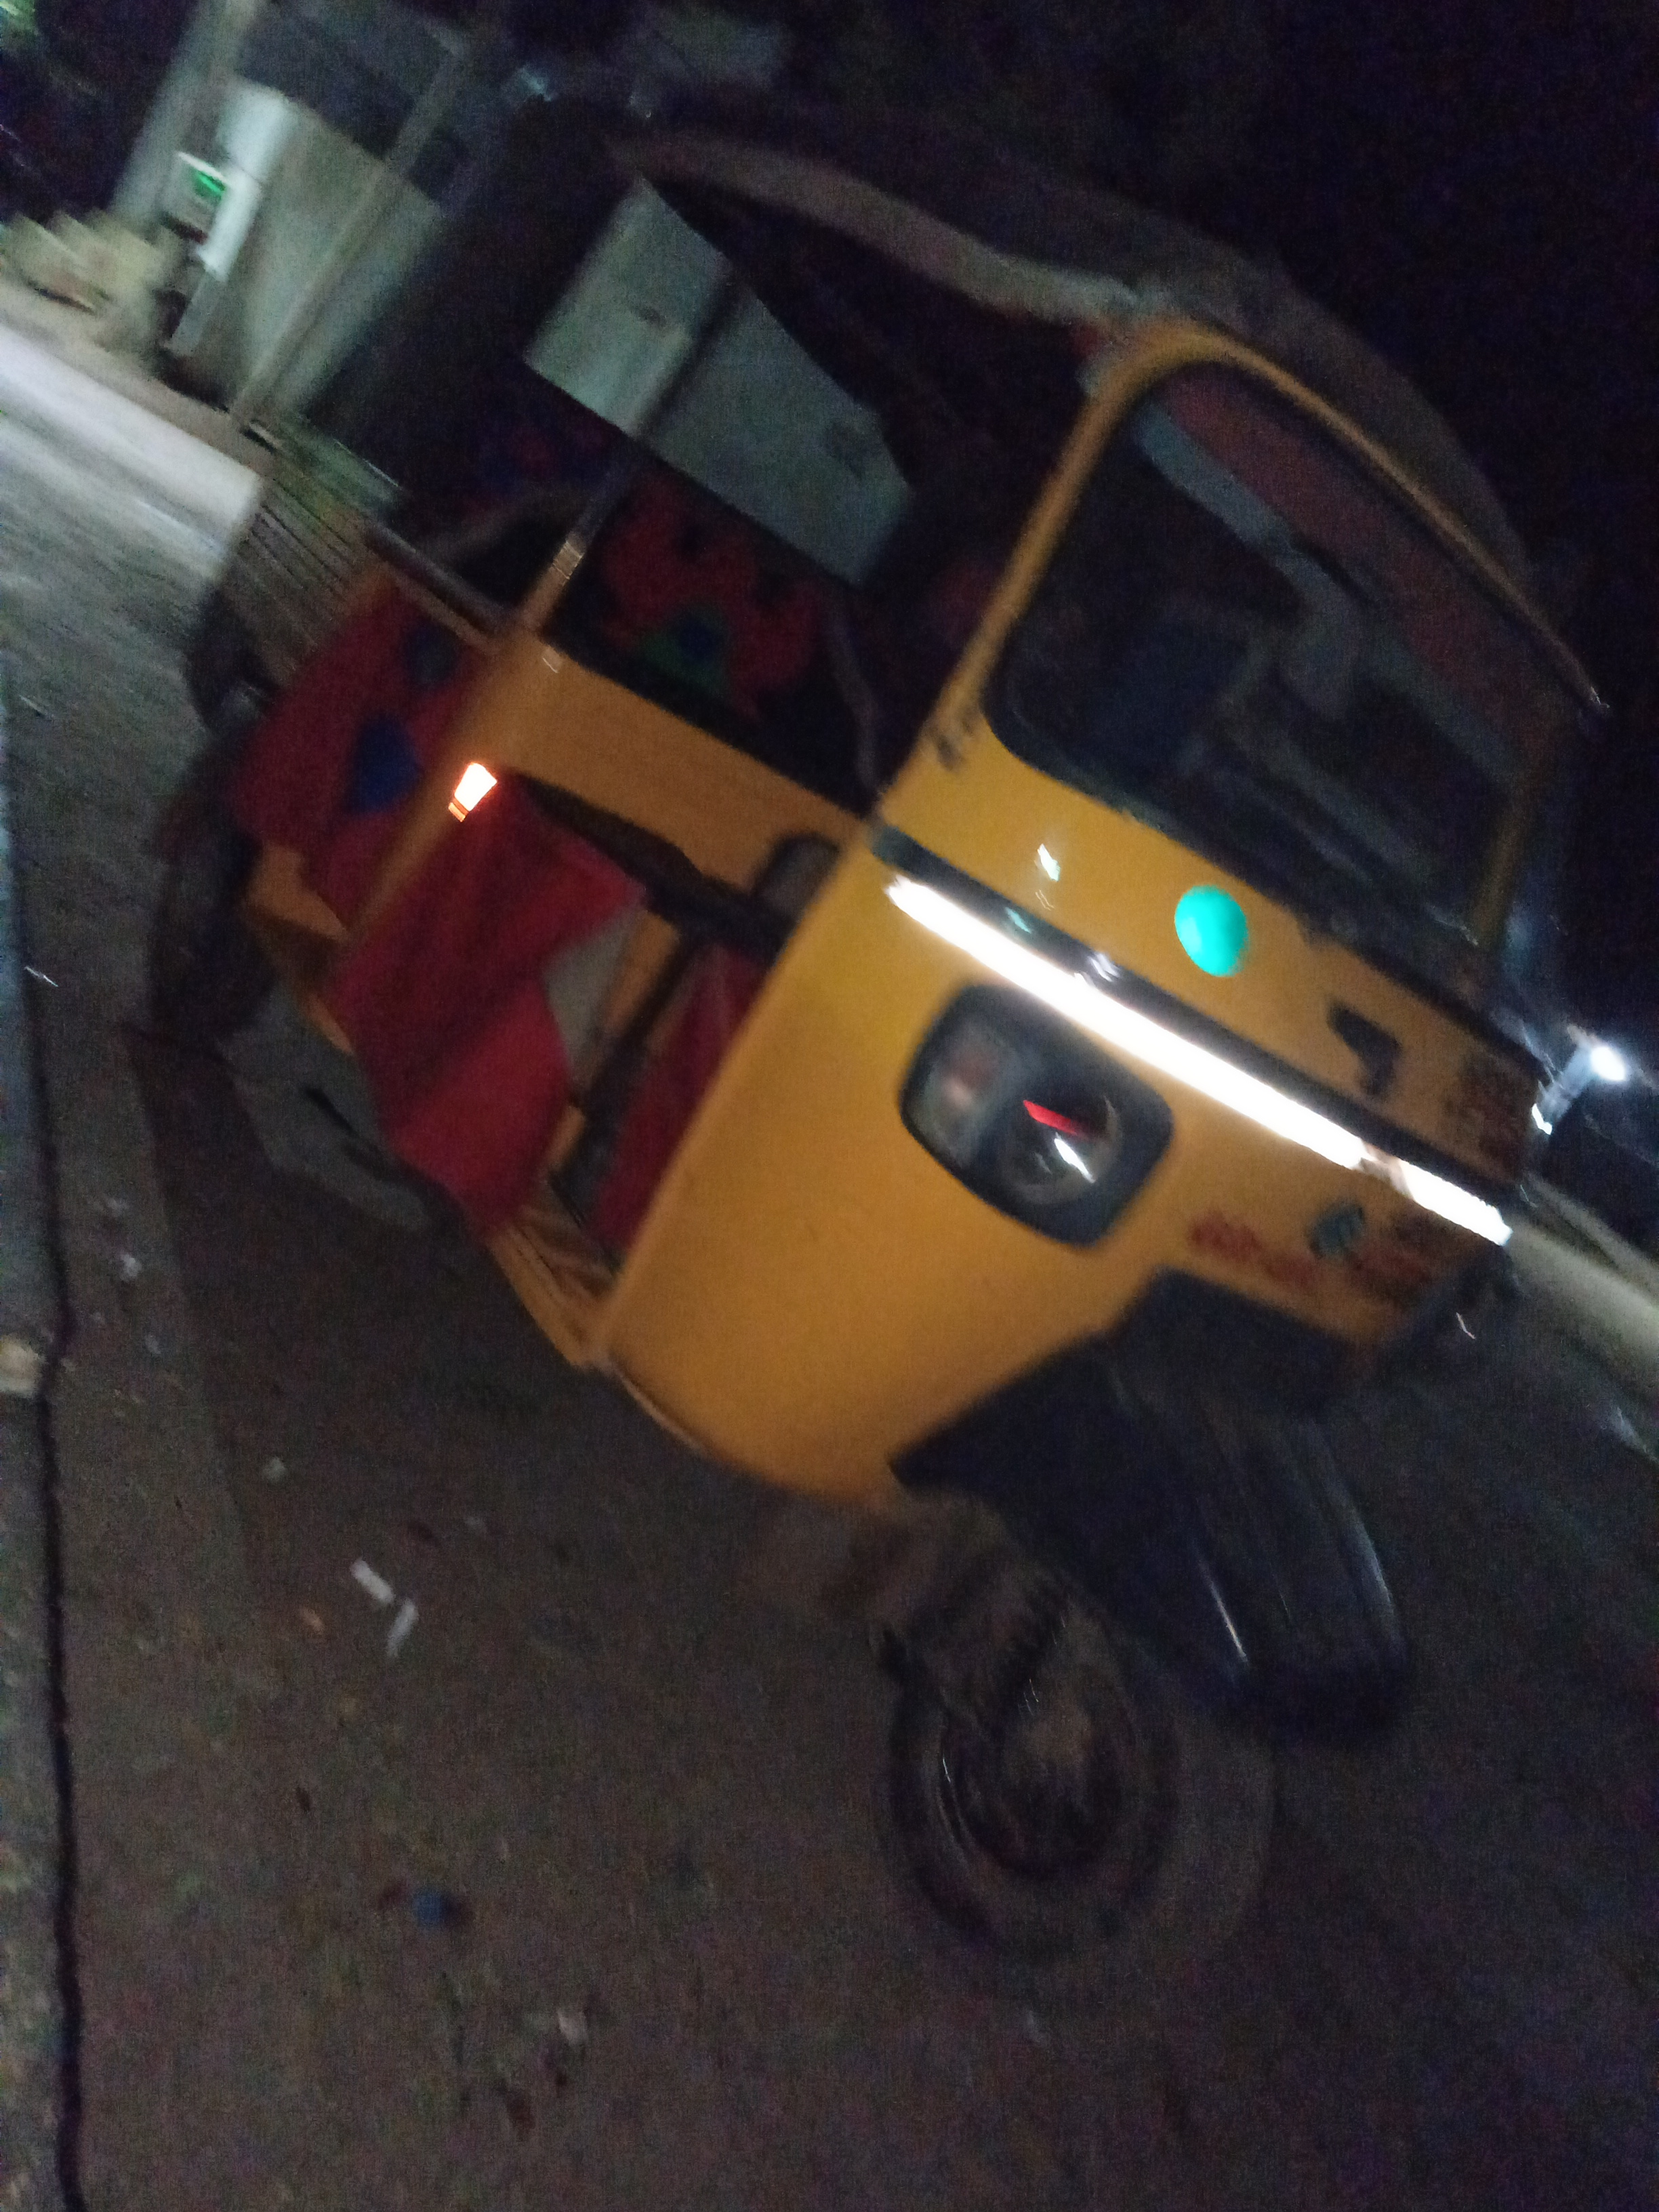auto: (143, 64, 1596, 2015)
